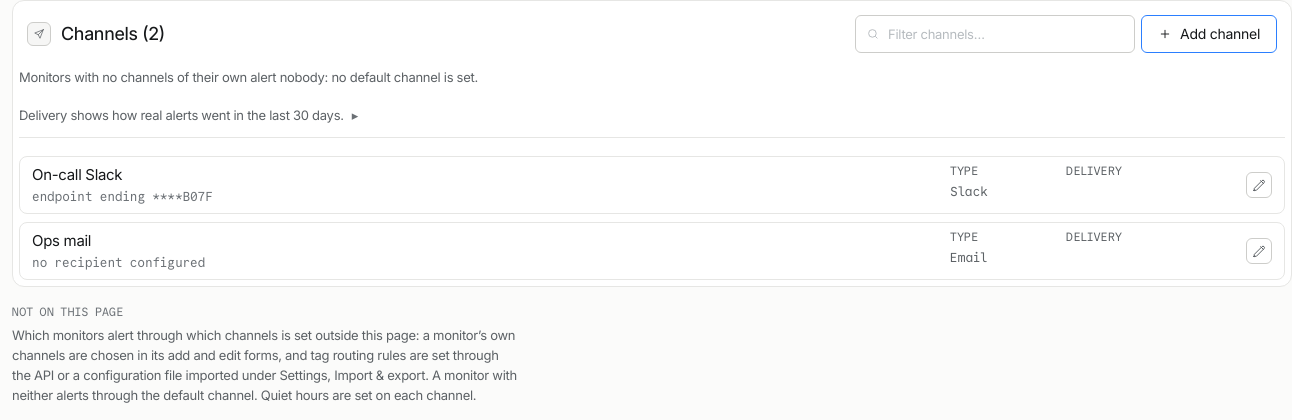
NotificationsView › puts the filter in the Channels card's header, beside the add button
In the search field named "Filter channels by name or type": x=1006, y=34 [888,26,1124,42], type "mail"
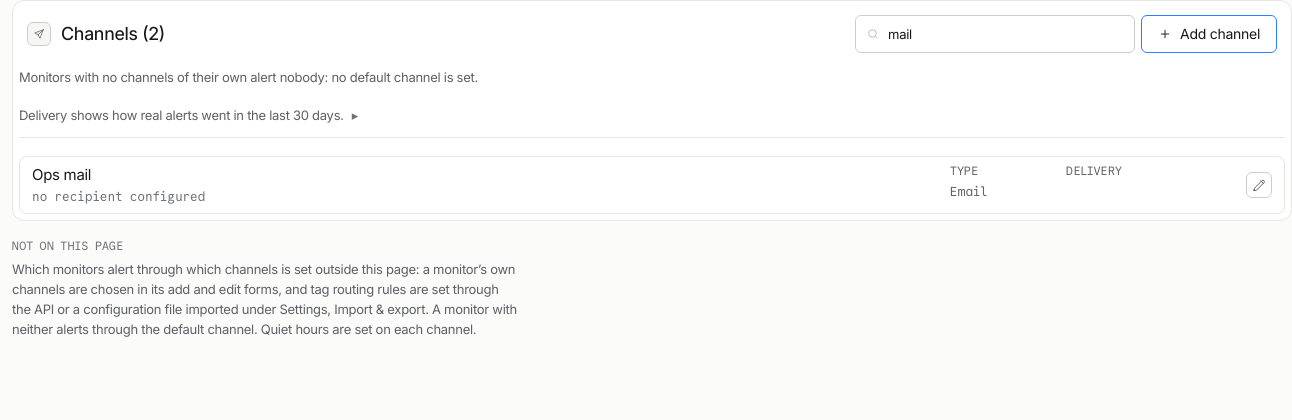
Expected: the text "Ops mail" is shown, [32,165,91,184]
Expected: the text "On-call Slack" is gone
